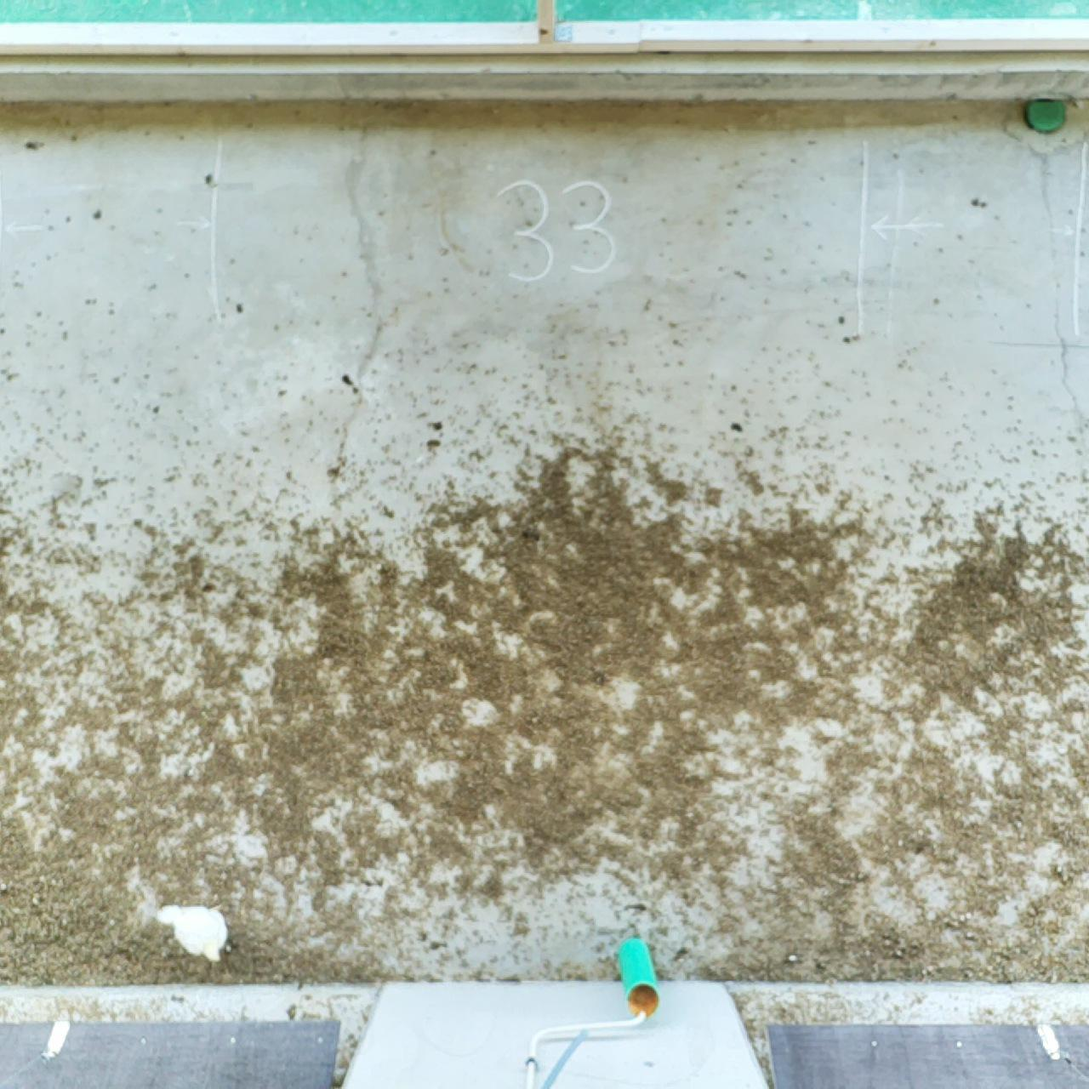chicken: (156, 899, 230, 968)
